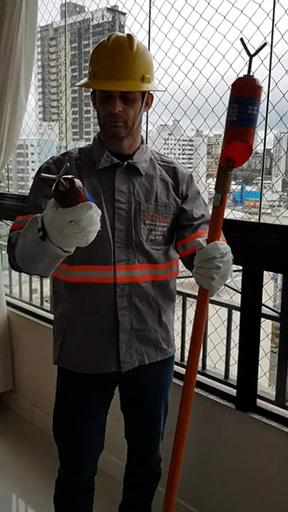Detector_Tensao_Contato: (219, 36, 267, 169), (38, 164, 98, 223)
Vara_Manobra: (161, 169, 230, 512)
